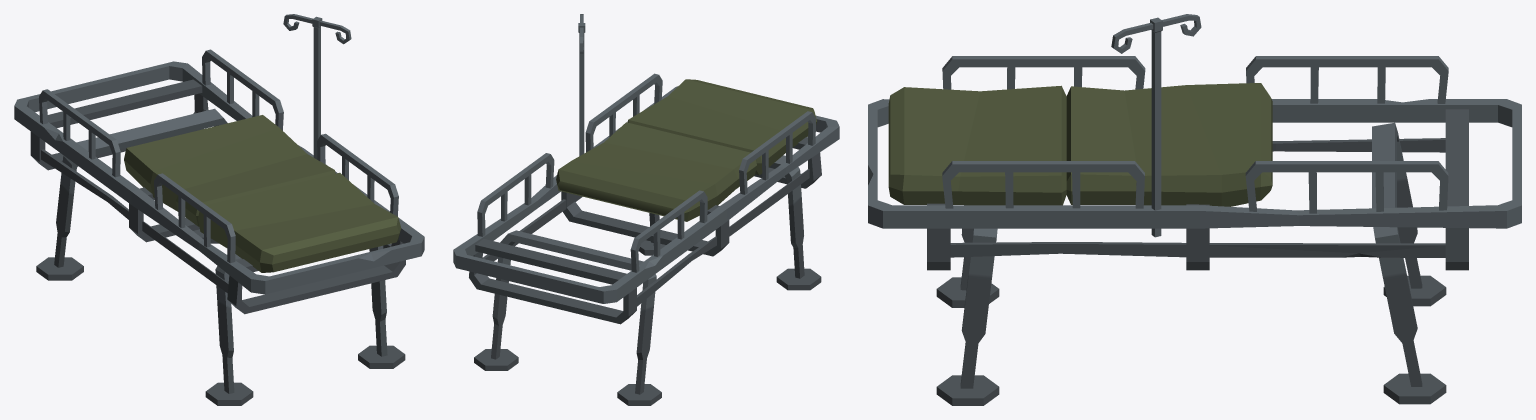
File: SM_Prop_Bed_Medical_01.fbx
The picture shows the model from 3 angles, left to right: view 1: azimuth 30°, elevation 25°; view 2: azimuth 150°, elevation 25°; view 3: azimuth 270°, elevation 25°; orthographic projection. The views are drawn at different scales.
Parts seen in each view (by area): view 1: SM_Prop_Bed_Medical_01; view 2: SM_Prop_Bed_Medical_01; view 3: SM_Prop_Bed_Medical_01.
Part boxes in pixels (x1,y1,x2,y2): SM_Prop_Bed_Medical_01: (14,14,424,405); SM_Prop_Bed_Medical_01: (453,14,839,405); SM_Prop_Bed_Medical_01: (868,14,1521,405).
Size of the model in its own units: 106 by 149 by 233.
